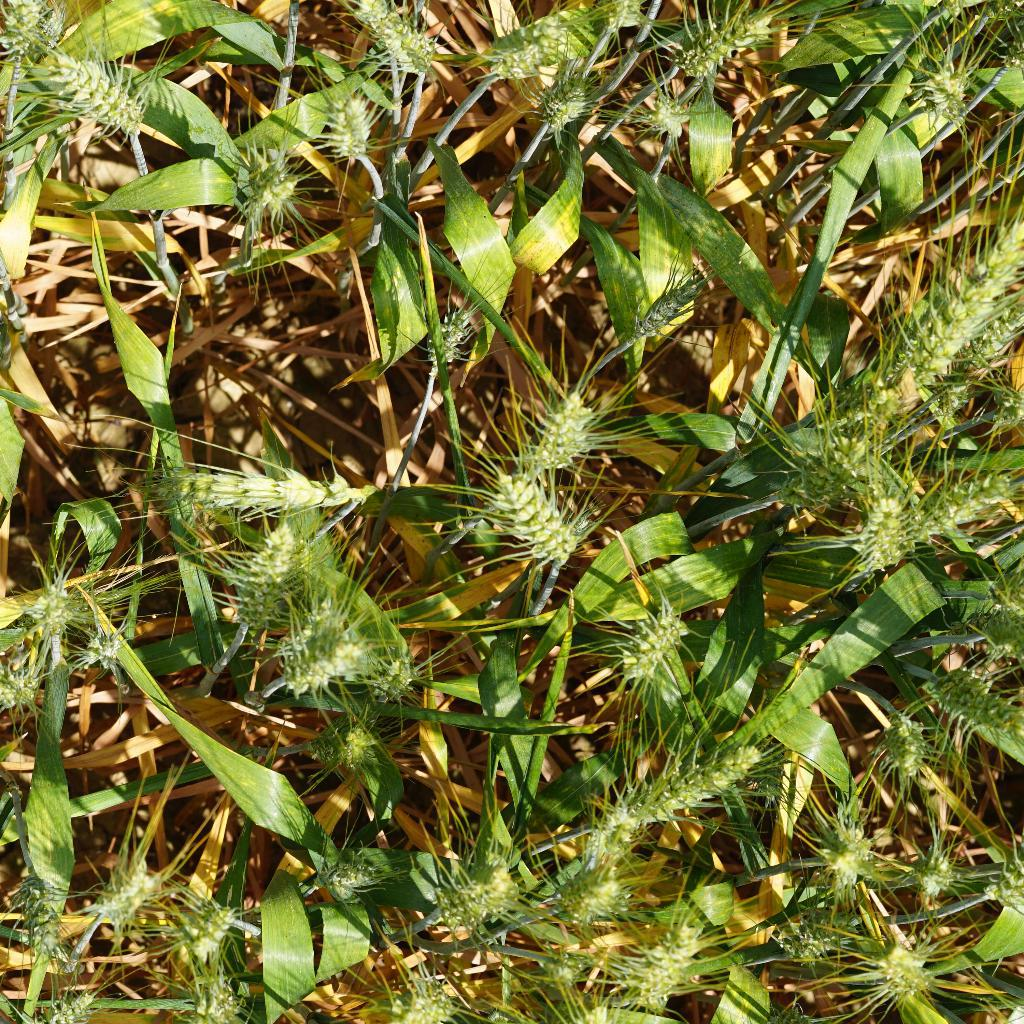0-0: (917, 221, 1021, 382), (604, 733, 763, 828), (198, 452, 362, 519), (39, 46, 149, 138), (508, 384, 606, 477), (489, 471, 586, 563), (617, 263, 718, 350), (912, 664, 1021, 742), (0, 855, 75, 968), (668, 0, 768, 81), (423, 854, 523, 933), (919, 463, 1024, 537), (763, 446, 871, 517), (224, 522, 309, 606), (403, 284, 479, 377), (610, 929, 695, 1005), (272, 602, 350, 684), (613, 601, 691, 680), (848, 935, 941, 1000), (153, 893, 245, 957), (299, 710, 385, 778), (945, 597, 1024, 669), (563, 798, 642, 870), (750, 907, 830, 976), (871, 705, 937, 788), (817, 808, 879, 896), (620, 83, 694, 156), (478, 15, 559, 81), (559, 845, 624, 926), (71, 856, 152, 920), (822, 402, 894, 473), (388, 964, 472, 1024), (320, 82, 381, 164), (852, 482, 907, 572), (908, 49, 980, 115), (961, 298, 1024, 371), (59, 618, 135, 678), (863, 314, 926, 385), (232, 146, 302, 208), (0, 649, 49, 736), (329, 848, 400, 907), (526, 67, 589, 133), (940, 382, 1021, 433), (363, 639, 423, 703), (23, 583, 86, 639), (186, 975, 256, 1024), (909, 847, 963, 907), (0, 0, 48, 64), (387, 19, 440, 74), (533, 945, 589, 996), (580, 0, 656, 37), (27, 985, 96, 1024), (355, 0, 402, 55)
